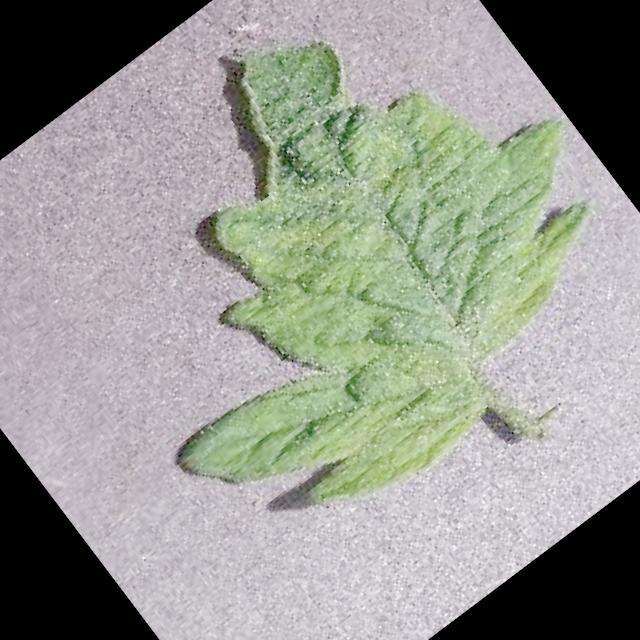Tomato mosaic virus leaf: (0, 0, 640, 589)
